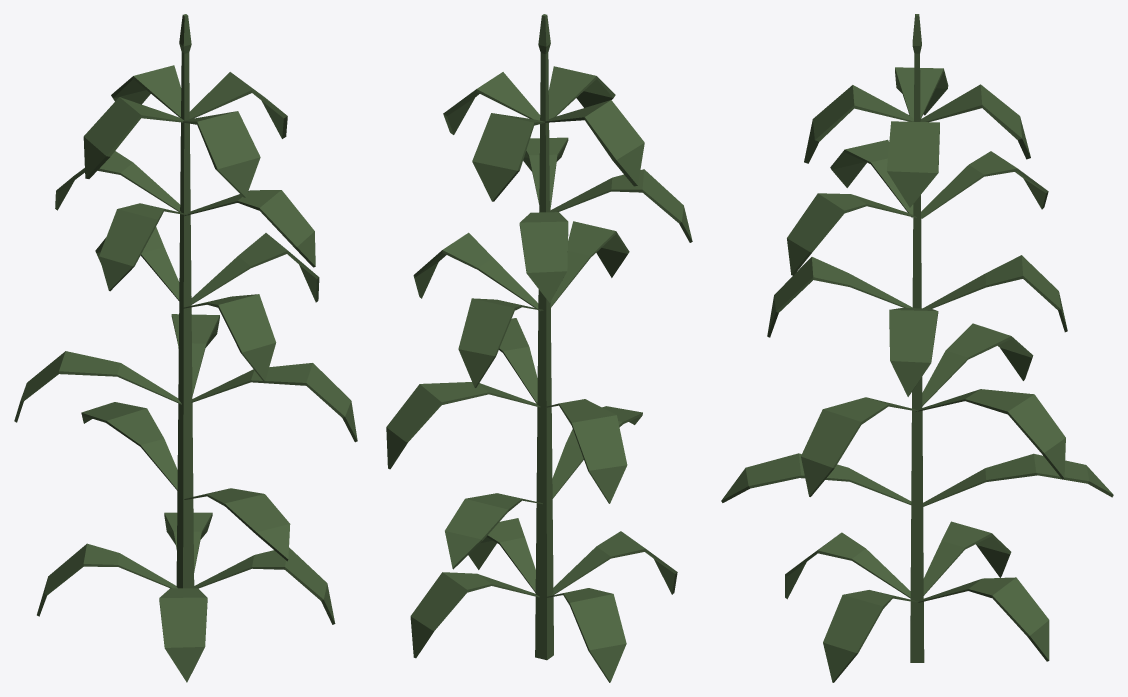
Rendered from Corn_1.gltf.
The picture shows the model from 3 angles, left to right: view 1: azimuth 30°, elevation 25°; view 2: azimuth 150°, elevation 25°; view 3: azimuth 270°, elevation 25°; orthographic projection.
Visible parts, largest first — view 1: Corn_1; view 2: Corn_1; view 3: Corn_1.
Boxes of the visible parts, x1=… form: Corn_1: x1=14, y1=14, x2=357, y2=682; Corn_1: x1=386, y1=14, x2=692, y2=682; Corn_1: x1=721, y1=14, x2=1113, y2=682.
Size of the model in its own units: 0.8237 by 1.98 by 1.09.
